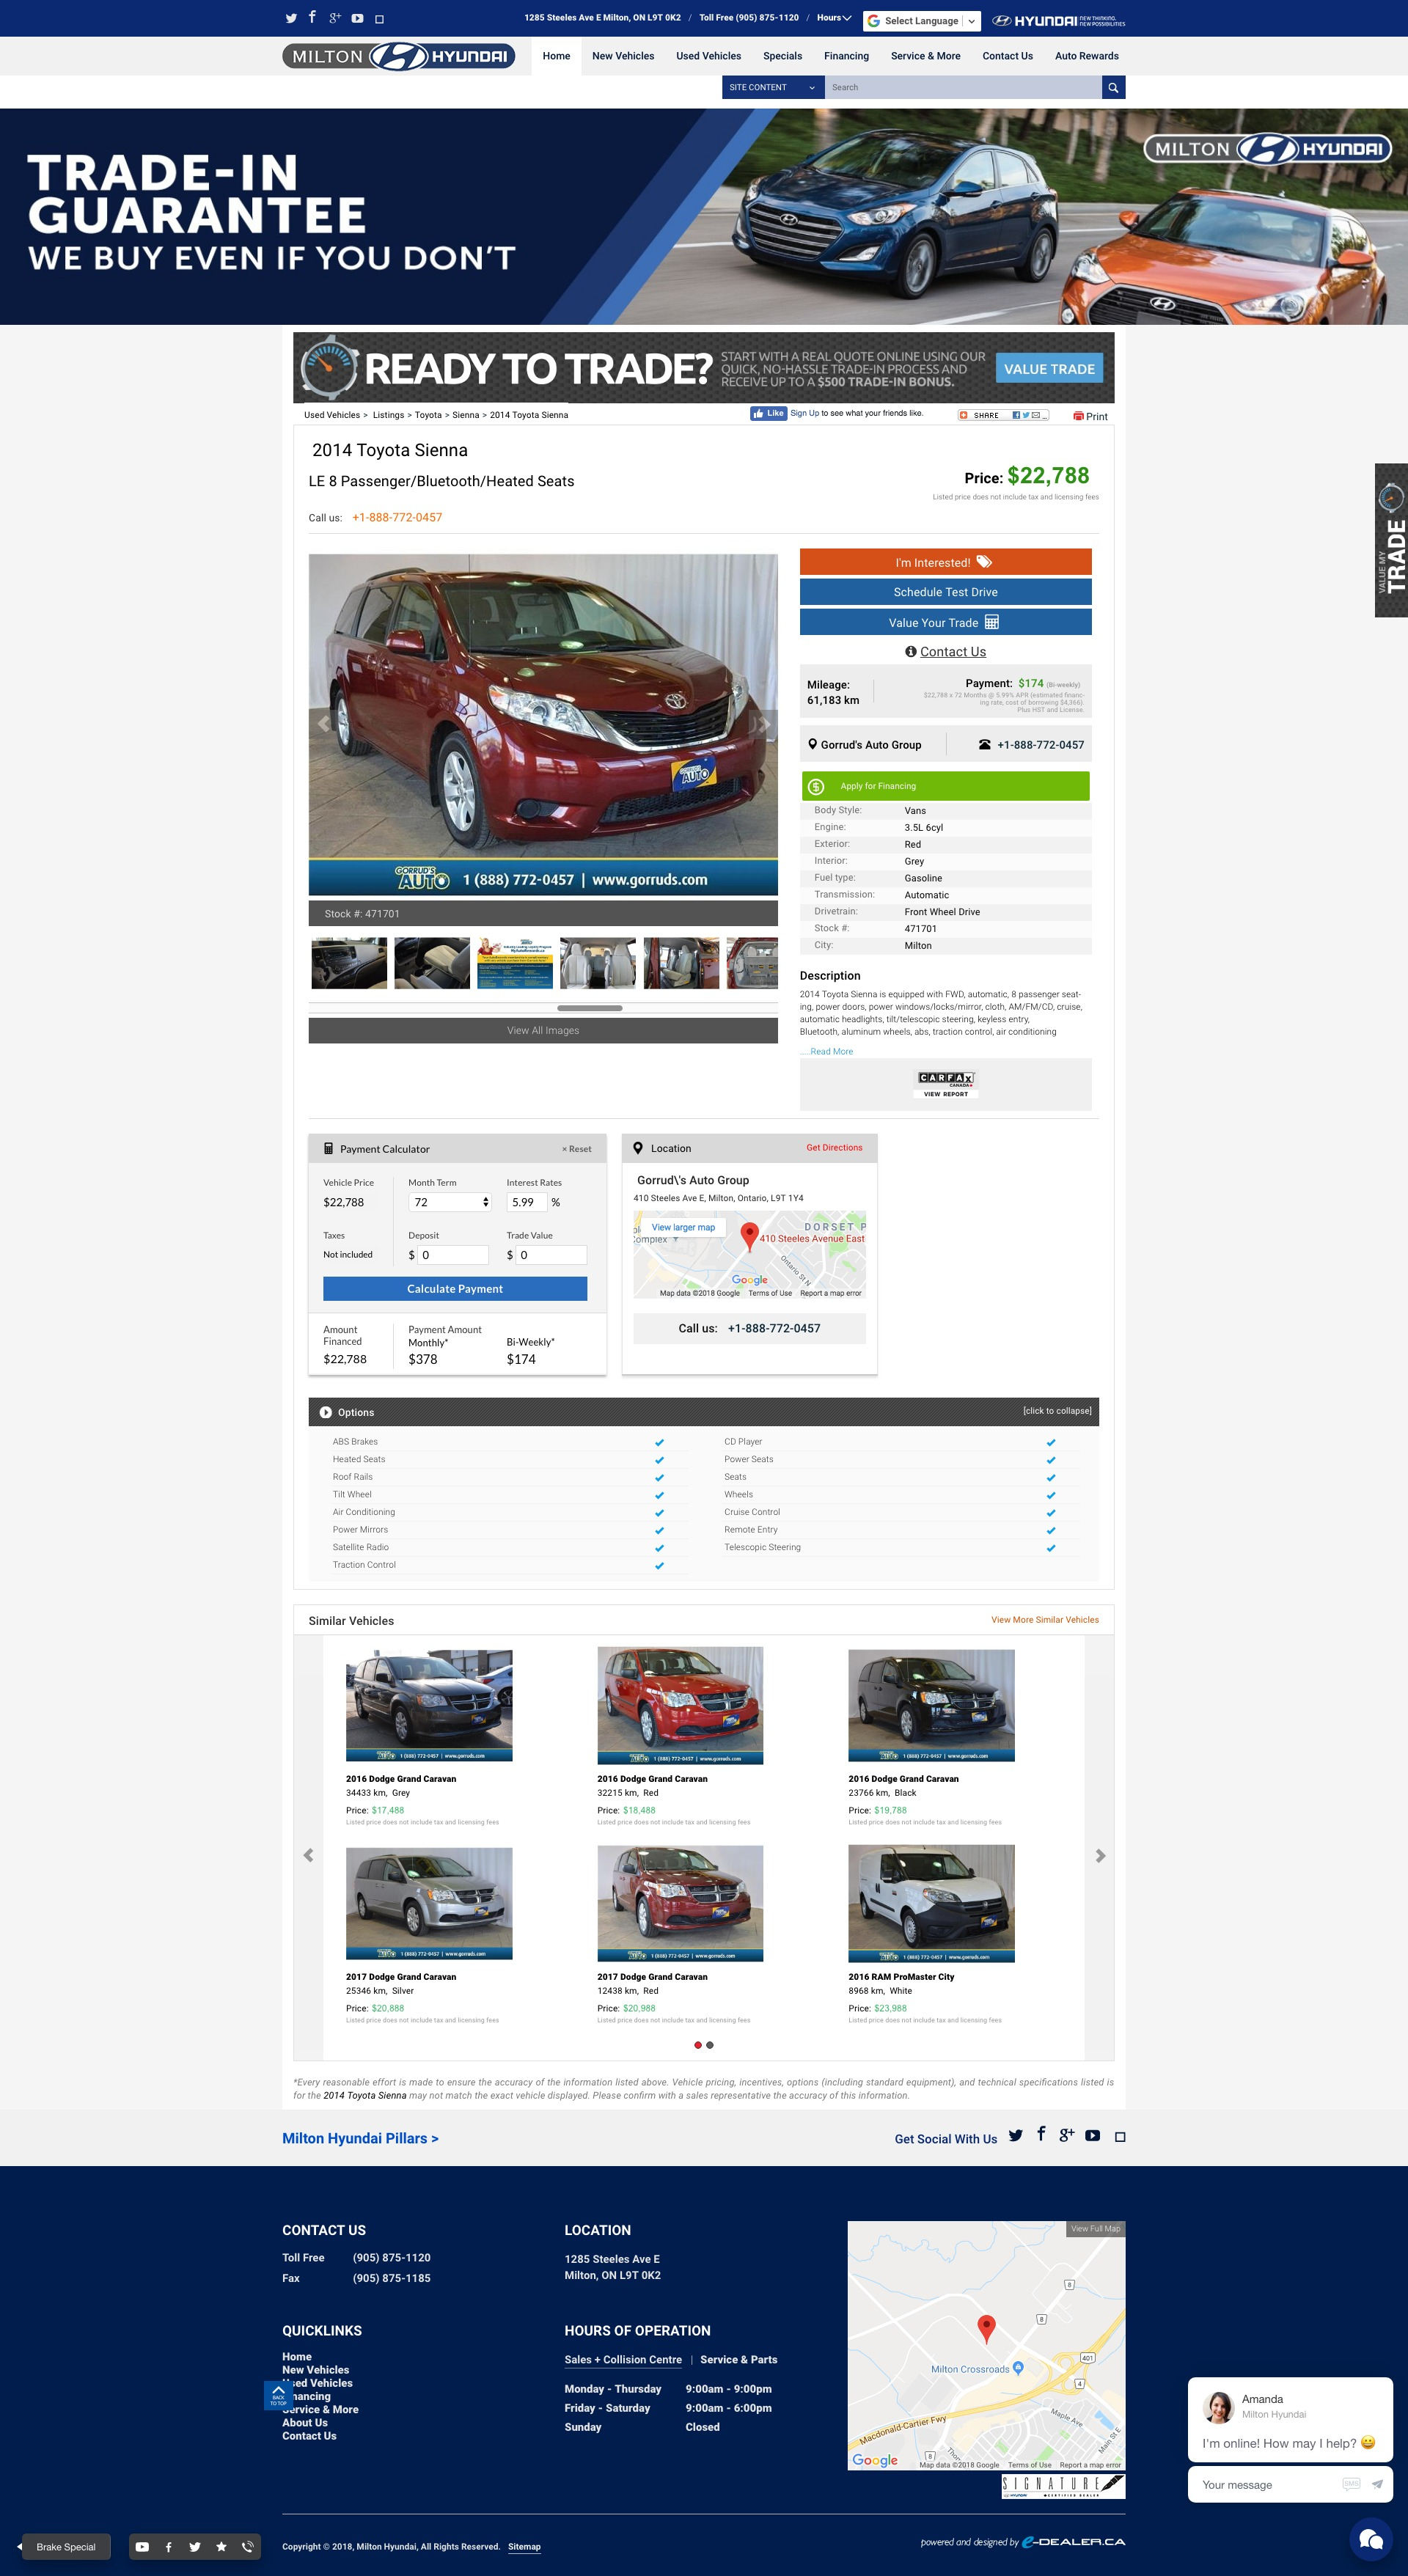car: (746, 709, 780, 749)
